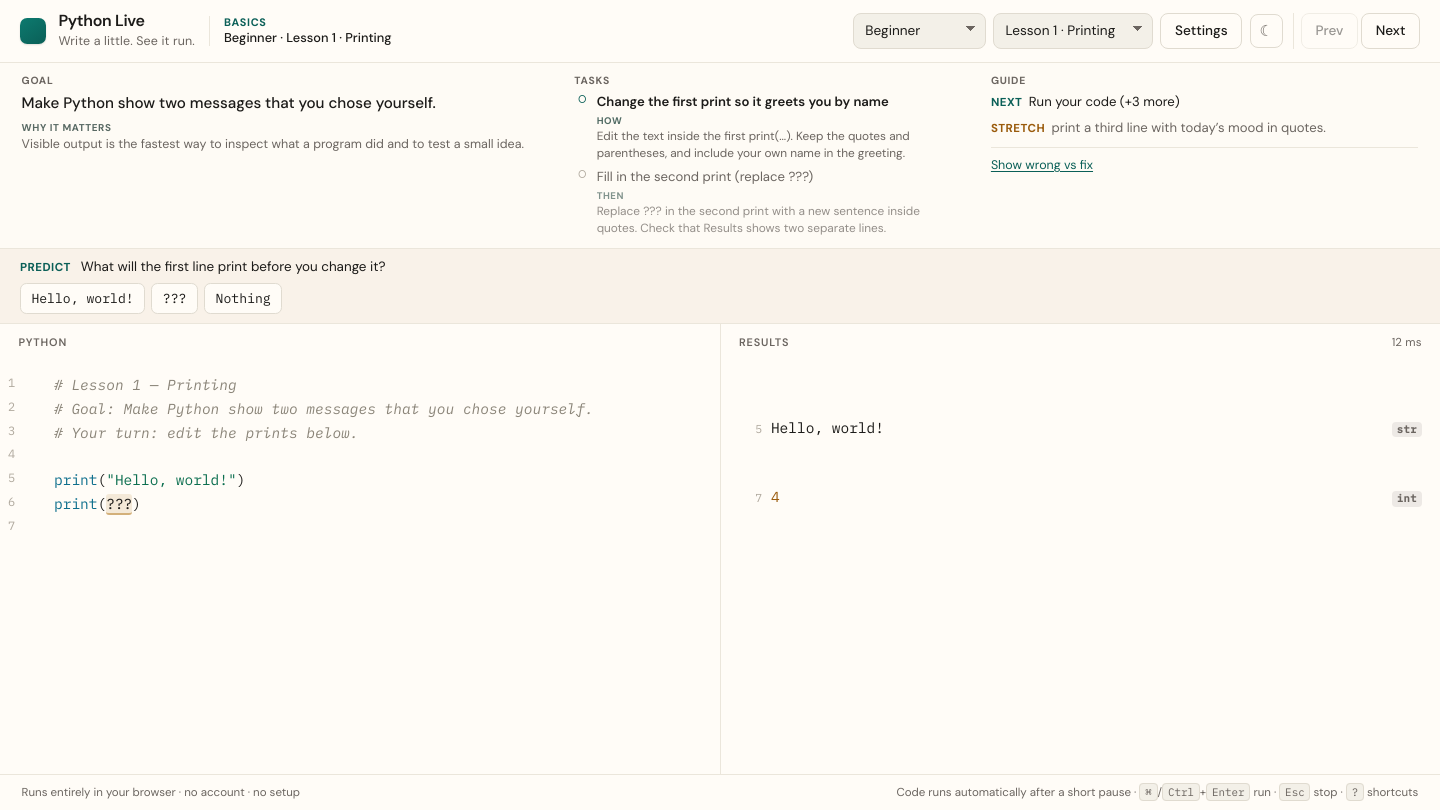
Test: App beginner flow › loads another lesson from the menu and shows its goal and tasks
The width and height of the screenshot is (1440, 810).
Check: the element named "lesson goal" shows "Make Python show two messages", box [22,93,436,113]
Check: the element named "lesson goal" shows "Why it matters", box [22,121,112,134]
Select "Lesson 13 · Reading errors" in the dropdown named "choose a lesson" at (1073, 31), box [993,13,1153,48]
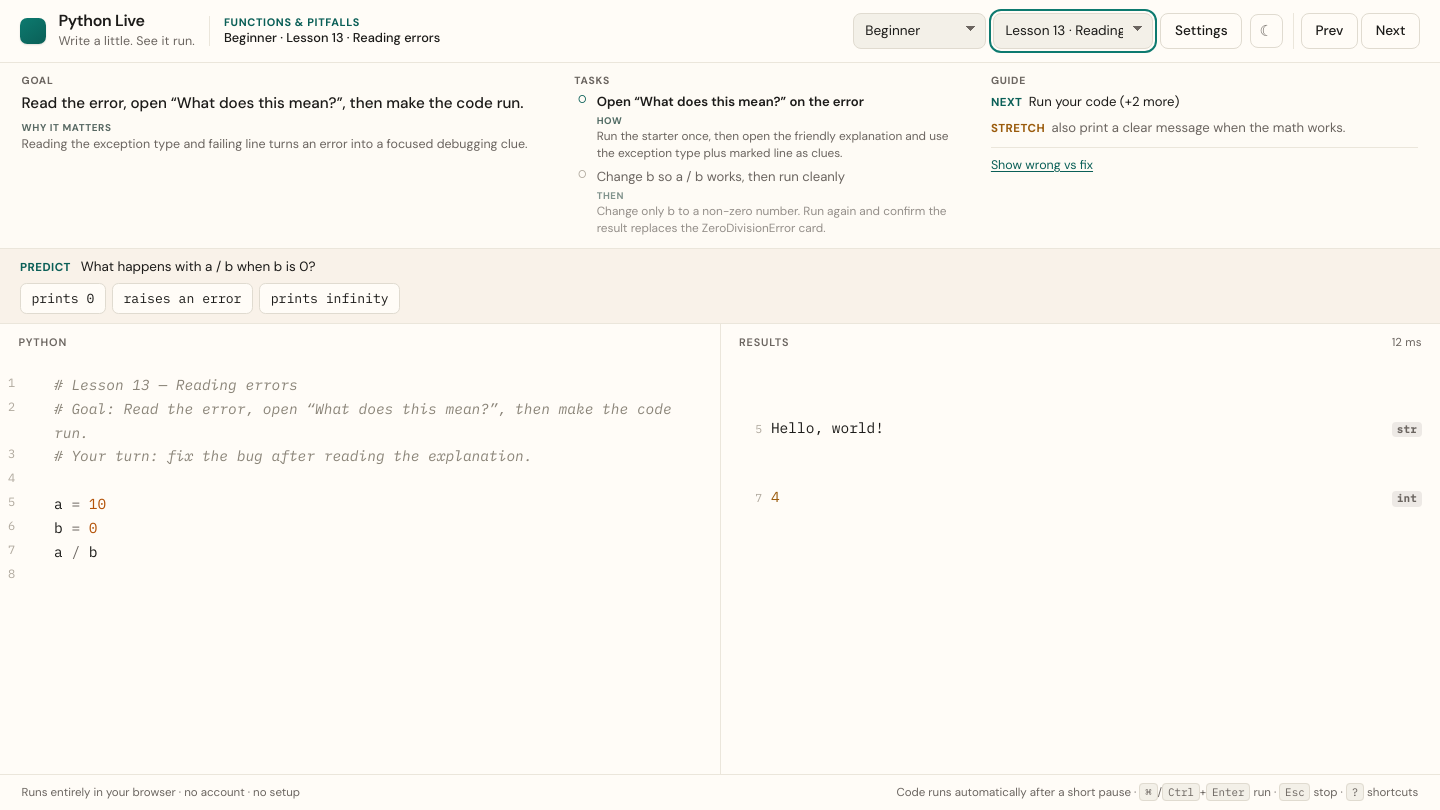
Check: the element named "lesson goal" shows "What does this mean", box [22,93,524,113]
Check: the element named "current lesson" shows "Lesson 13", box [224,29,440,46]
